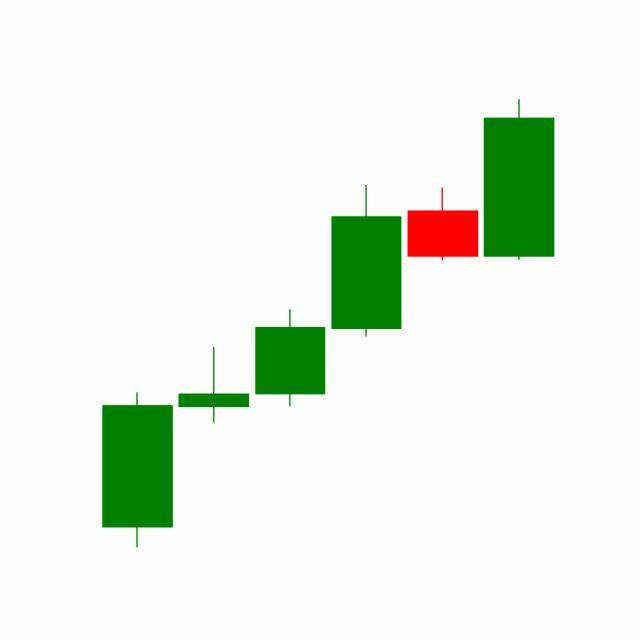Hikkake Pattern: (175, 99, 555, 427)
